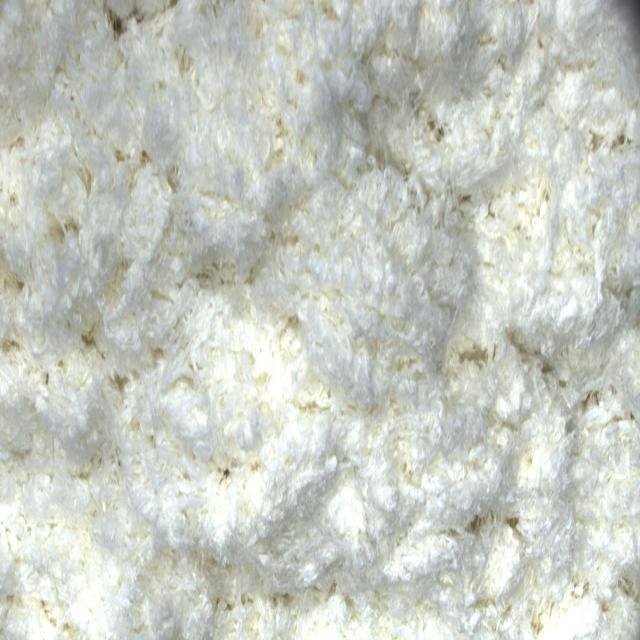dust: (100, 2, 129, 39)
